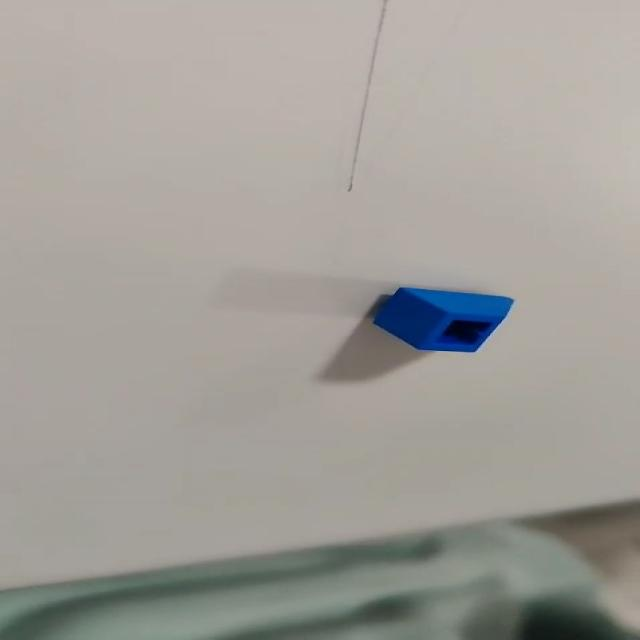X1x2x1: (370, 288, 517, 354)
